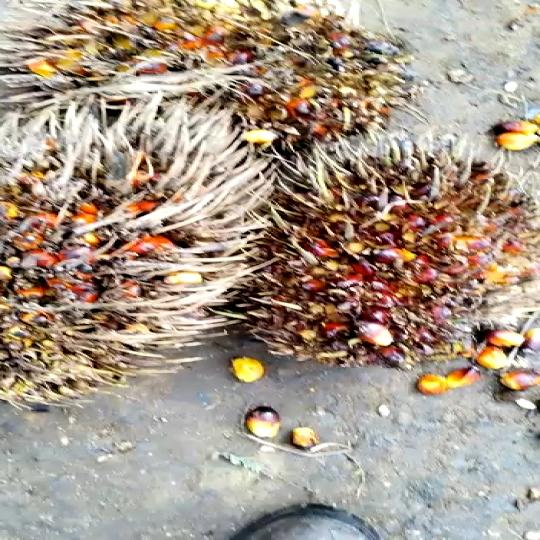terlalu masak: (215, 137, 540, 371)
